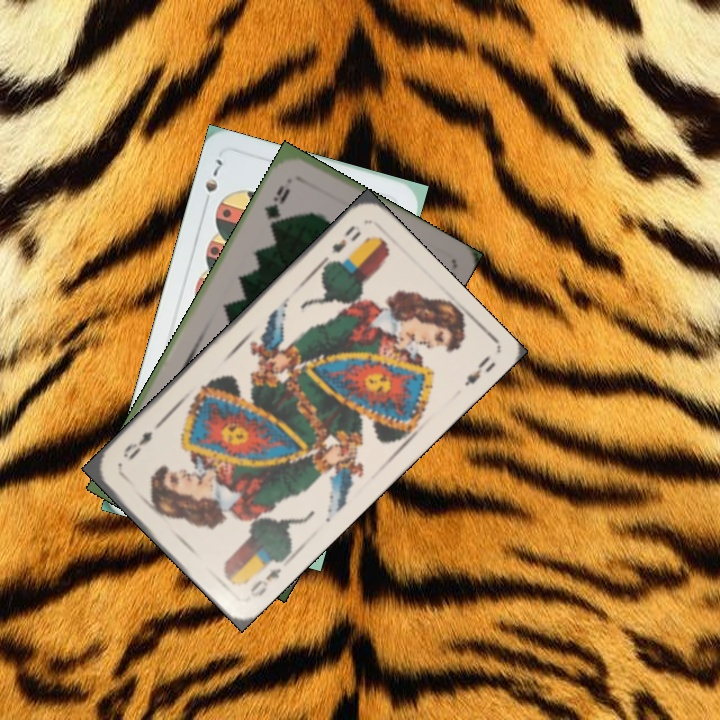EO: (319, 221, 364, 267), (245, 564, 284, 601)
G9: (260, 181, 293, 230)
S7: (199, 154, 225, 211)
